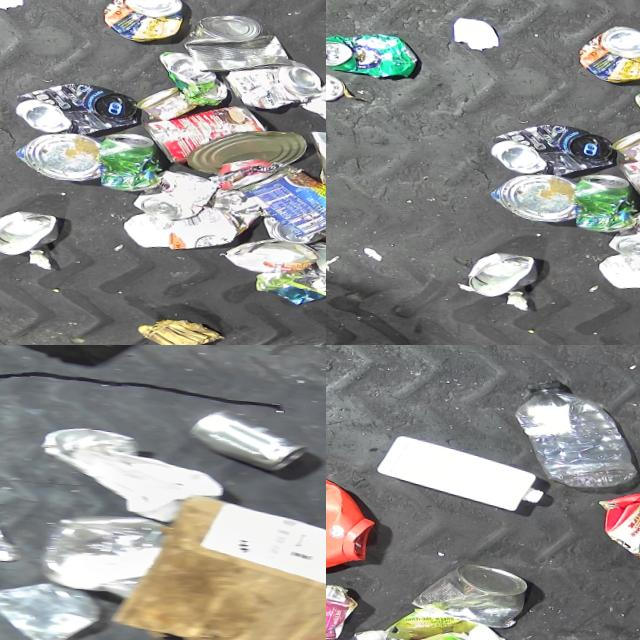can: (396, 547, 541, 632), (140, 90, 265, 162), (186, 394, 302, 466), (10, 72, 135, 134), (486, 113, 611, 175), (180, 3, 292, 70), (233, 149, 326, 229), (183, 116, 305, 171), (222, 47, 319, 103), (127, 158, 216, 214), (10, 123, 98, 177), (486, 164, 574, 218), (326, 25, 416, 76), (575, 14, 640, 78), (93, 122, 159, 184), (569, 163, 635, 225), (219, 226, 316, 266), (458, 244, 534, 295), (156, 42, 225, 98), (99, 0, 182, 37), (0, 202, 57, 253), (133, 75, 195, 115), (603, 199, 640, 254), (258, 206, 321, 234), (304, 119, 326, 180), (609, 116, 640, 156), (303, 230, 326, 271), (326, 69, 342, 100)
non_white_jug: (326, 442, 386, 584)
plastic_bottle: (499, 361, 640, 485)
